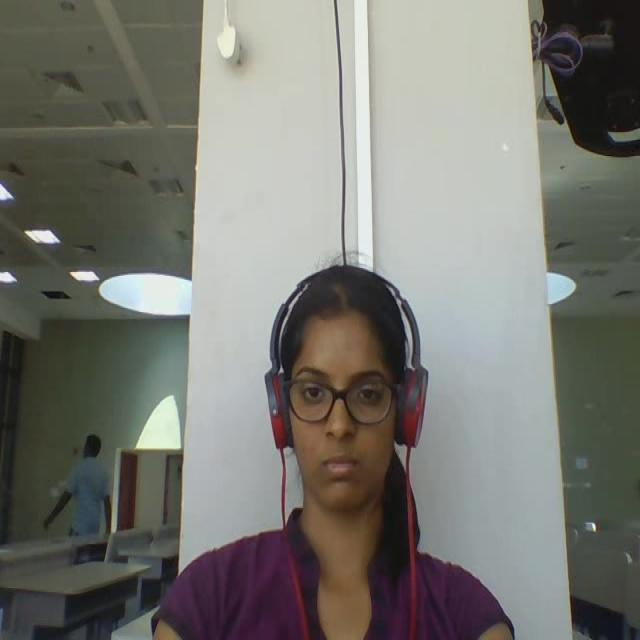Engaged: (244, 220, 448, 600)
